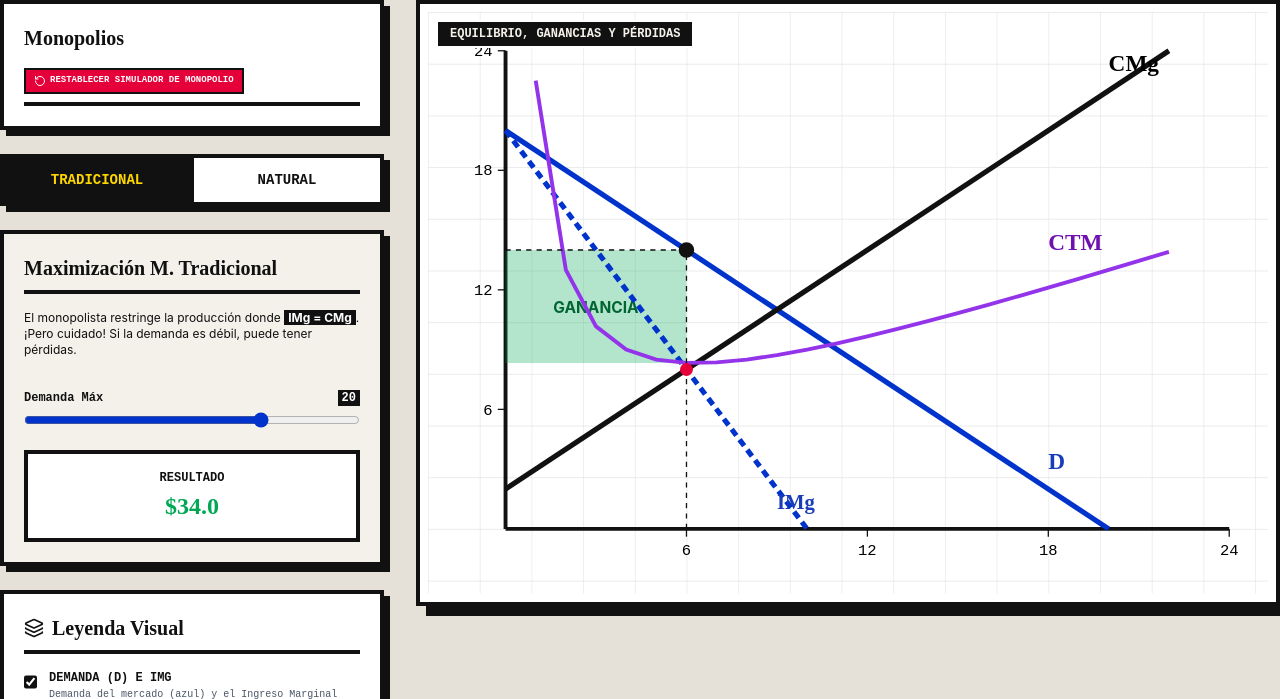
Scenario: Monopolio integration › presents a reachable no-solution state for natural monopoly regulation
The image size is (1280, 699).
Click the button "Natural" at (285, 180), box [190,158,380,202]
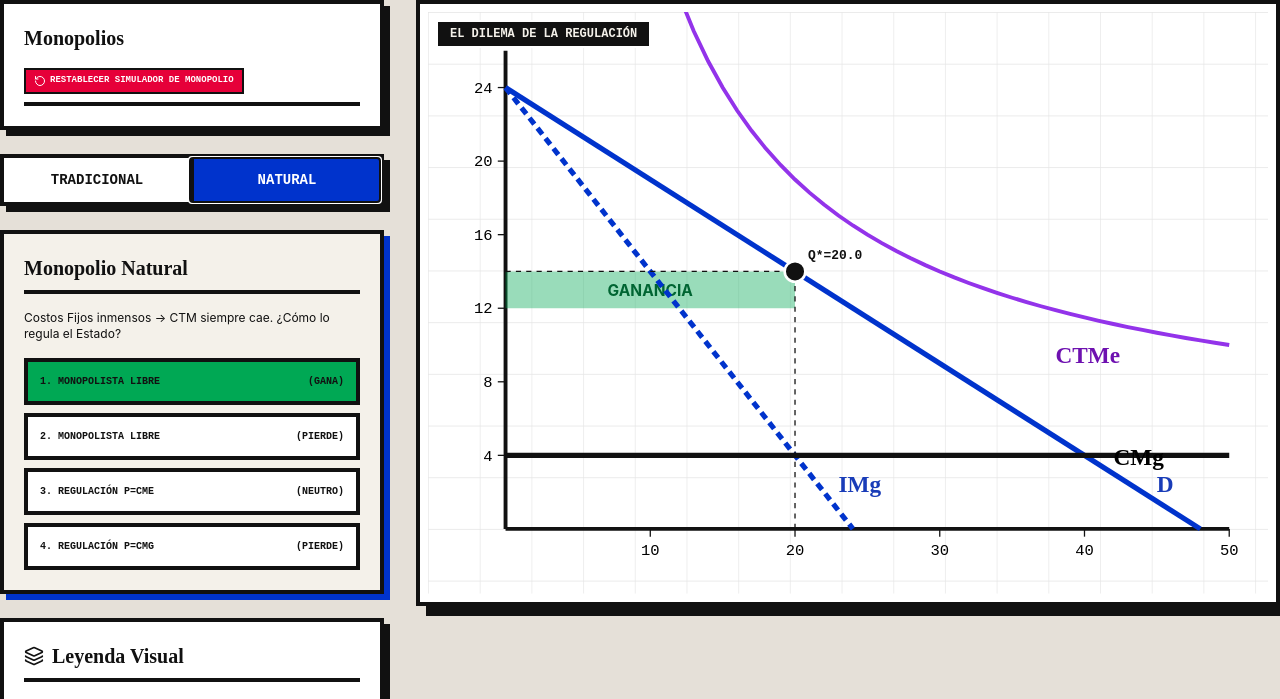
Click the text "3. Regulación P=CMe" at (97, 491), box [40,484,154,498]
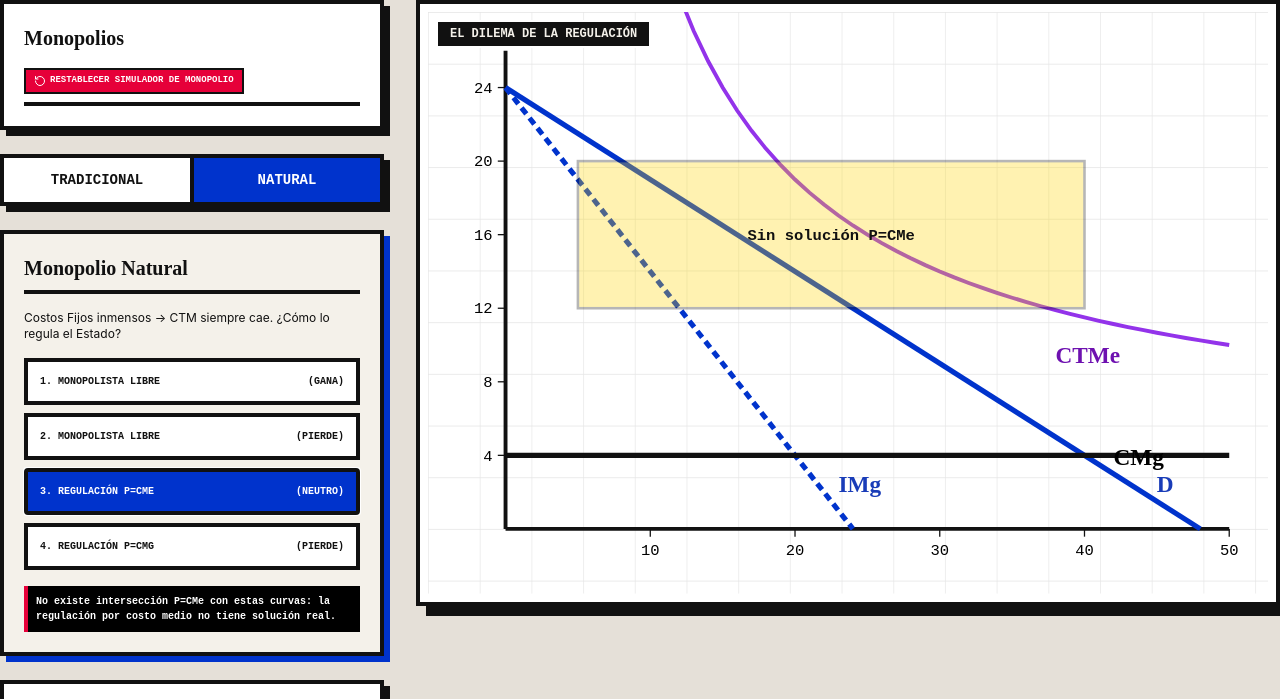
Check: the text "No existe intersección" is shown, box [36,596,336,622]
